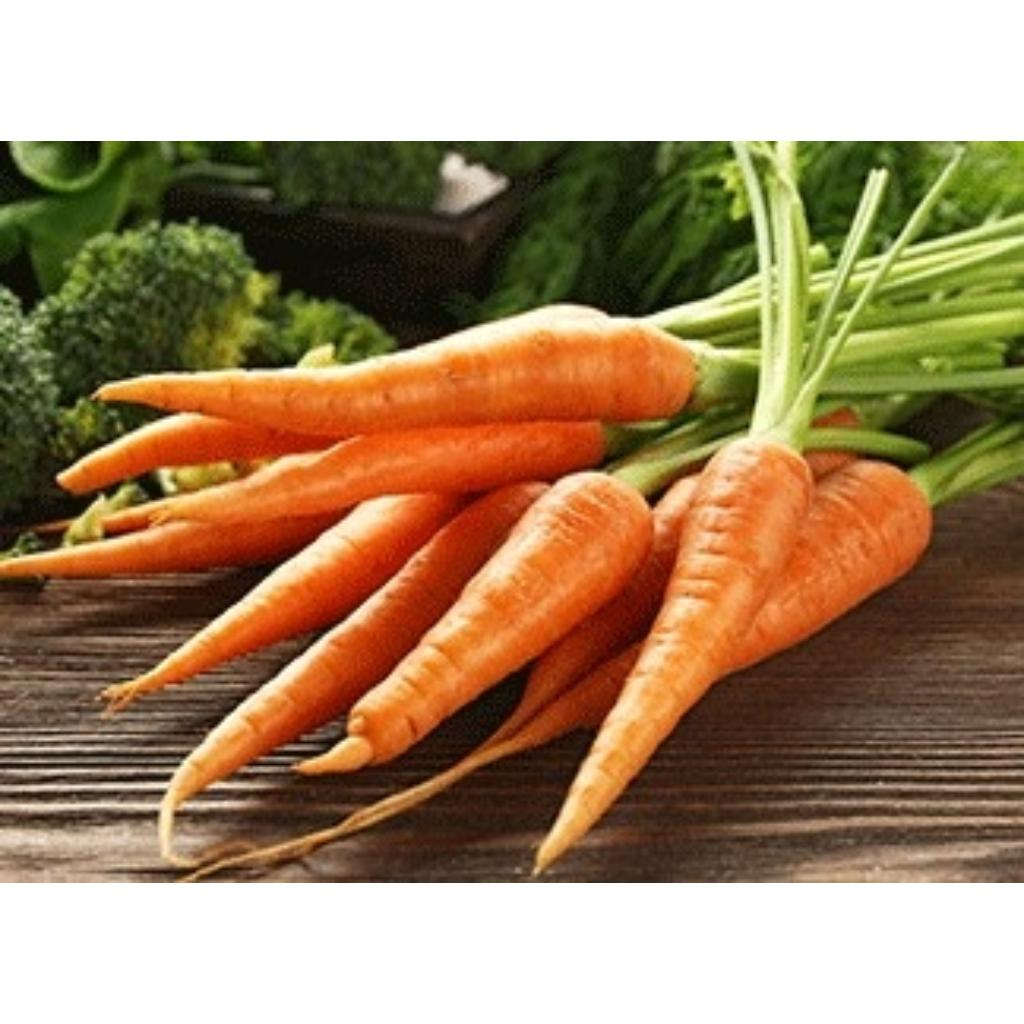carrot: (158, 485, 548, 856), (540, 439, 812, 874), (300, 473, 650, 772), (96, 305, 696, 436), (107, 498, 466, 712), (107, 421, 606, 530), (730, 461, 932, 672), (56, 413, 336, 494)
